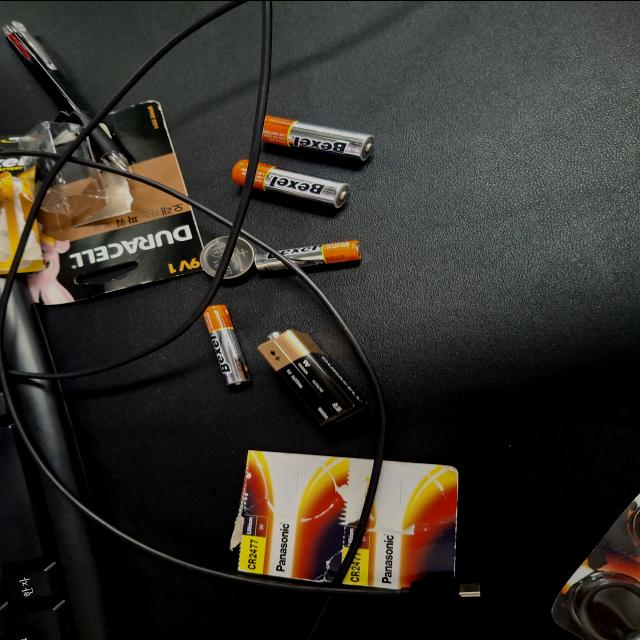9V: (288, 353, 412, 438)
AA: (575, 333, 640, 424)
AAA: (489, 346, 535, 432), (339, 312, 444, 348)
COIN: (481, 312, 539, 352)
